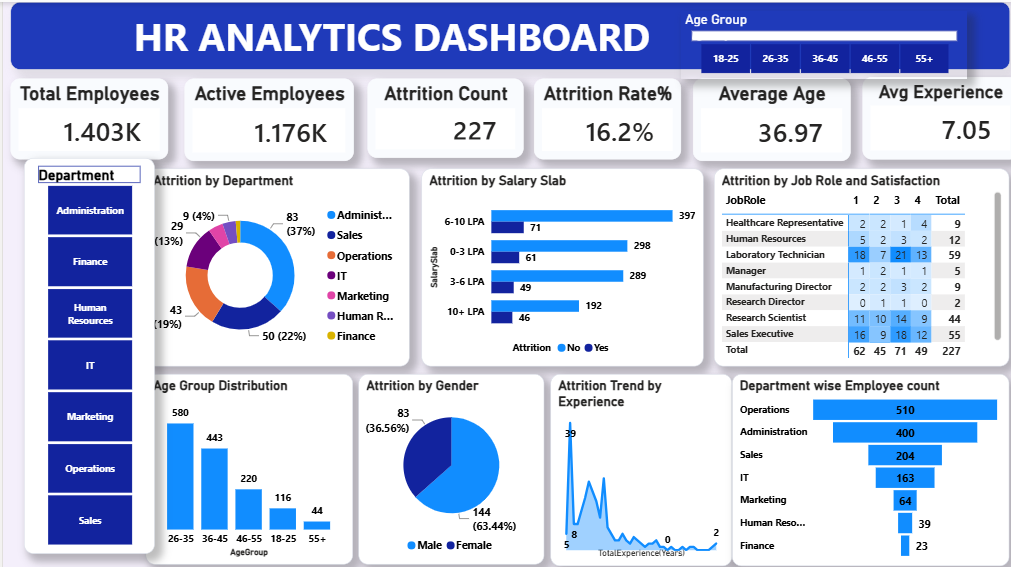

What the dashboard file says about the page in this screenshot:
{"tool":"powerbi","page":{"name":"Page 1","canvas":[1280,720],"ordinal":0},"visuals":[{"type":"textbox","box":[10,0,1259,85],"z":0},{"type":"image","box":[54.8,5.7,88.8,79.4],"z":1000},{"type":"cardVisual","title":"Total Employees","fields":{"Data":["CountNonNull(HR_Analytics-4.EmpID)"]},"box":[9.4,96.4,198.4,102],"z":2000},{"type":"cardVisual","title":"Active Employees","fields":{"Data":["CountNonNull(HR_Analytics-4.EmployeeCount)"]},"box":[228.7,96.4,213.5,103.9],"z":3000},{"type":"cardVisual","title":"Attrition Count","fields":{"Data":["Sum(HR_Analytics-4.AttiritionCount)"]},"box":[459.2,96.4,196.5,100.2],"z":4000},{"type":"cardVisual","title":"Attrition Rate%","fields":{"Data":["HR_Analytics-4.Attrition Rate %"]},"box":[669,96.4,185.2,102],"z":5000},{"type":"cardVisual","title":"Average Age","fields":{"Data":["Avg(HR_Analytics-4.Age)"]},"box":[869.3,96.4,198.4,103.9],"z":6000},{"type":"cardVisual","title":"Avg Experience","fields":{"Data":["Avg(HR_Analytics-4.YearsatCompany)"]},"box":[1082.8,94.5,196.5,103.9],"z":7000},{"type":"donutChart","title":"Attrition by Department","fields":{"Category":["HR_Analytics-4.Department"],"Y":["Sum(HR_Analytics-4.AttiritionCount)"]},"box":[179.5,209.8,332.6,249.5],"z":7001},{"type":"clusteredBarChart","title":"Attrition by Salary Slab","fields":{"Category":["HR_Analytics-4.SalarySlab"],"Y":["CountNonNull(HR_Analytics-4.EmpID)"],"Series":["HR_Analytics-4.Attrition"]},"box":[527.2,209.8,355.3,249.5],"z":7002},{"type":"pivotTable","title":"Attrition by Job Role and Satisfaction","fields":{"Rows":["HR_Analytics-4.JobRole"],"Values":["Sum(HR_Analytics-4.AttiritionCount)"],"Columns":["HR_Analytics-4.JobSatisfaction"]},"box":[895.8,209.8,372.3,249.5],"z":7003},{"type":"columnChart","title":"Age Group Distribution","fields":{"Category":["HR_Analytics-4.AgeGroup"],"Y":["Sum(HR_Analytics-4.EmployeeCount)"]},"box":[179,469,261,240],"z":7004},{"type":"pieChart","title":"Attrition by Gender","fields":{"Category":["HR_Analytics-4.Gender"],"Y":["Sum(HR_Analytics-4.AttiritionCount)"]},"box":[448,469,234,240],"z":7005},{"type":"areaChart","title":"Attrition Trend by Experience","fields":{"Category":["HR_Analytics-4.TotalExperience(Years)"],"Y2":["Sum(HR_Analytics-4.AttiritionCount)"]},"box":[689.8,468.7,228.7,241.9],"z":7006},{"type":"funnel","title":"Department wise Employee count","fields":{"Category":["HR_Analytics-4.Department"],"Y":["CountNonNull(HR_Analytics-4.EmpID)"]},"box":[919,469,349,242],"z":7007},{"type":"slicer","fields":{"Values":["HR_Analytics-4.Department"]},"box":[26.5,196.5,164.4,498.9],"z":7008},{"type":"slicer","title":" Age Group","fields":{"Values":["HR_Analytics-4.AgeGroup"]},"box":[854.2,11.3,360.9,85],"z":7009}]}

Visuals, with their boxes in screenshot pixels (x1, y1, x2, y2), scaled from the page's 1280x720 canvas onto the 1011x567 screenshot:
textbox: Rect(8, 0, 1002, 67)
image: Rect(43, 4, 113, 67)
"Total Employees" cardVisual: Rect(7, 76, 164, 156)
"Active Employees" cardVisual: Rect(181, 76, 349, 158)
"Attrition Count" cardVisual: Rect(363, 76, 518, 155)
"Attrition Rate%" cardVisual: Rect(528, 76, 675, 156)
"Average Age" cardVisual: Rect(687, 76, 843, 158)
"Avg Experience" cardVisual: Rect(855, 74, 1010, 156)
"Attrition by Department" donutChart: Rect(142, 165, 404, 362)
"Attrition by Salary Slab" clusteredBarChart: Rect(416, 165, 697, 362)
"Attrition by Job Role and Satisfaction" pivotTable: Rect(708, 165, 1002, 362)
"Age Group Distribution" columnChart: Rect(141, 369, 348, 558)
"Attrition by Gender" pieChart: Rect(354, 369, 539, 558)
"Attrition Trend by Experience" areaChart: Rect(545, 369, 725, 560)
"Department wise Employee count" funnel: Rect(726, 369, 1002, 560)
slicer - HR_Analytics-4.Department: Rect(21, 155, 151, 548)
" Age Group" slicer: Rect(675, 9, 960, 76)
